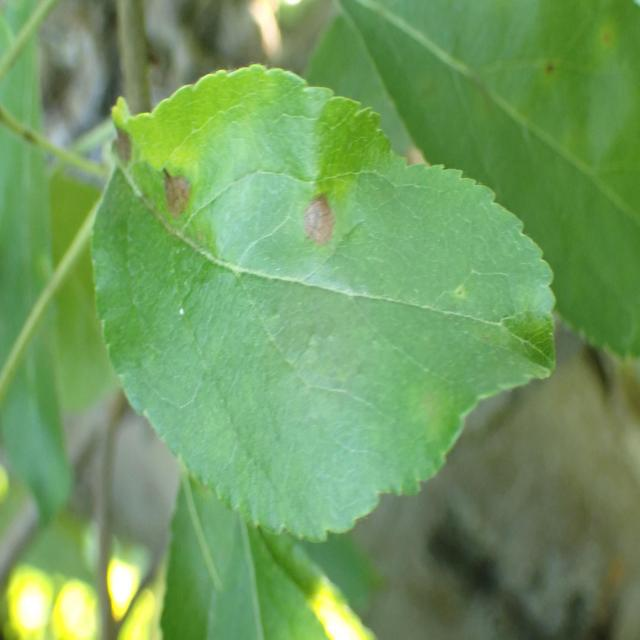frog-eye-leaf-spot: (89, 63, 559, 543)
